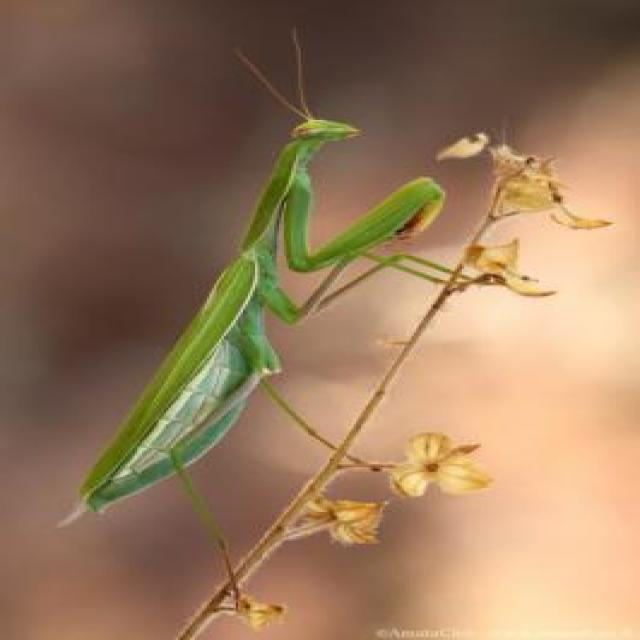antennae: (220, 43, 309, 118), (293, 31, 324, 122)
body: (70, 117, 361, 516)
insect: (72, 29, 556, 599)
legs: (157, 311, 277, 620), (228, 323, 366, 459), (244, 250, 481, 316), (290, 180, 454, 273)
mouthpart: (344, 123, 361, 141)
wings: (86, 251, 266, 492)
